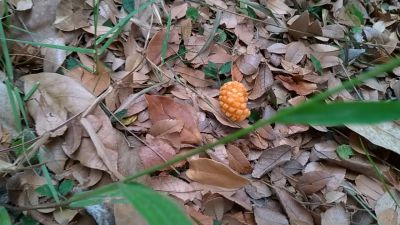eggs: (217, 76, 251, 126)
